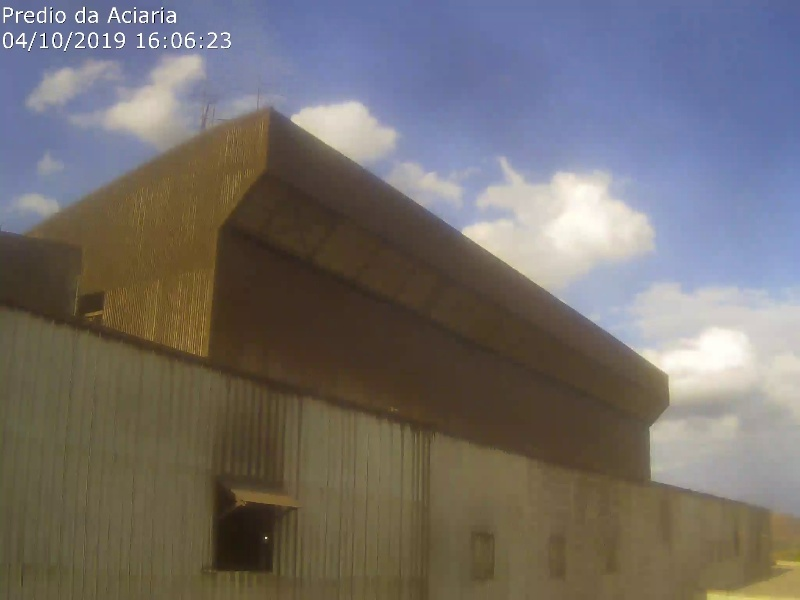bom: (263, 1, 800, 240), (579, 161, 800, 403), (1, 2, 260, 205)
